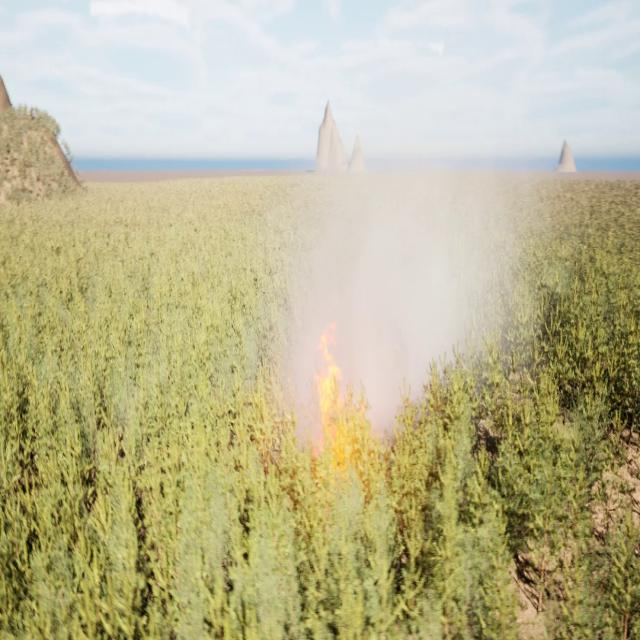fire: (312, 306, 366, 468)
smoke: (276, 93, 552, 475)
